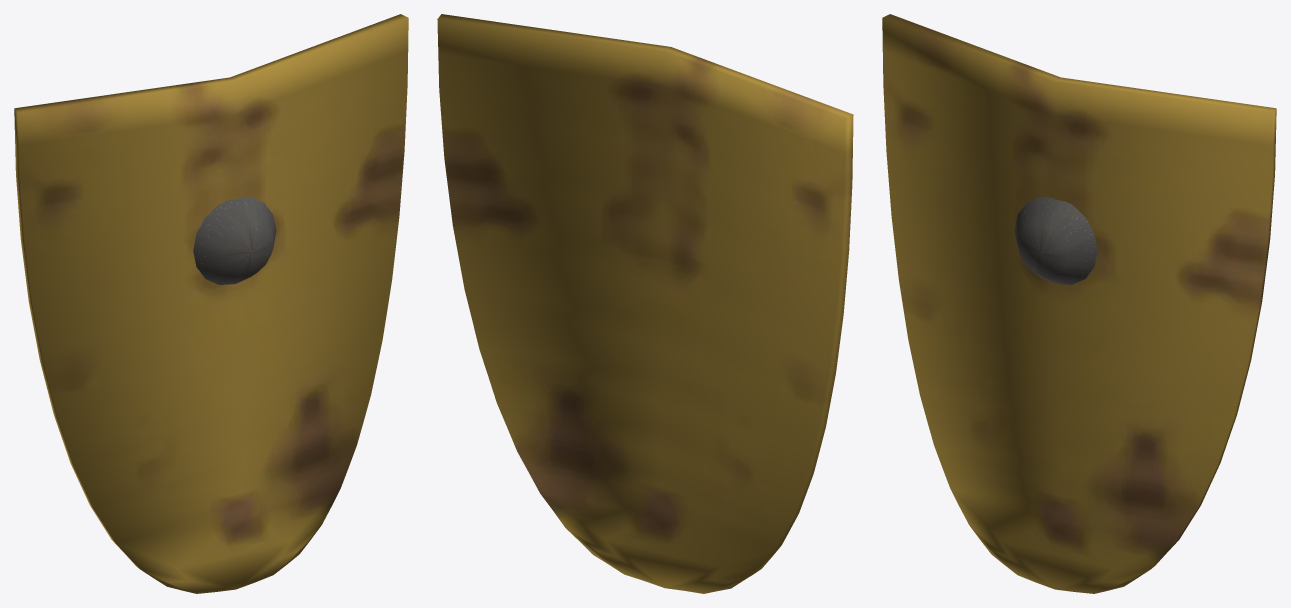
The model's file is badem_kalkan.glb.
3 renders of one model, left to right at view 1: azimuth 30°, elevation 25°; view 2: azimuth 150°, elevation 25°; view 3: azimuth 330°, elevation 25°, orthographic. The views are drawn at different scales.
Parts seen in each view (by area): view 1: badem_kalkan; view 2: badem_kalkan; view 3: badem_kalkan.
Boxes of the visible parts, x1,y1,x2,y2 form: badem_kalkan: (14,14,408,593); badem_kalkan: (437,14,853,593); badem_kalkan: (882,14,1276,593).
Size of the model in its own units: 0.5629 by 0.7007 by 0.1103.
2 materials, 2 textured.
